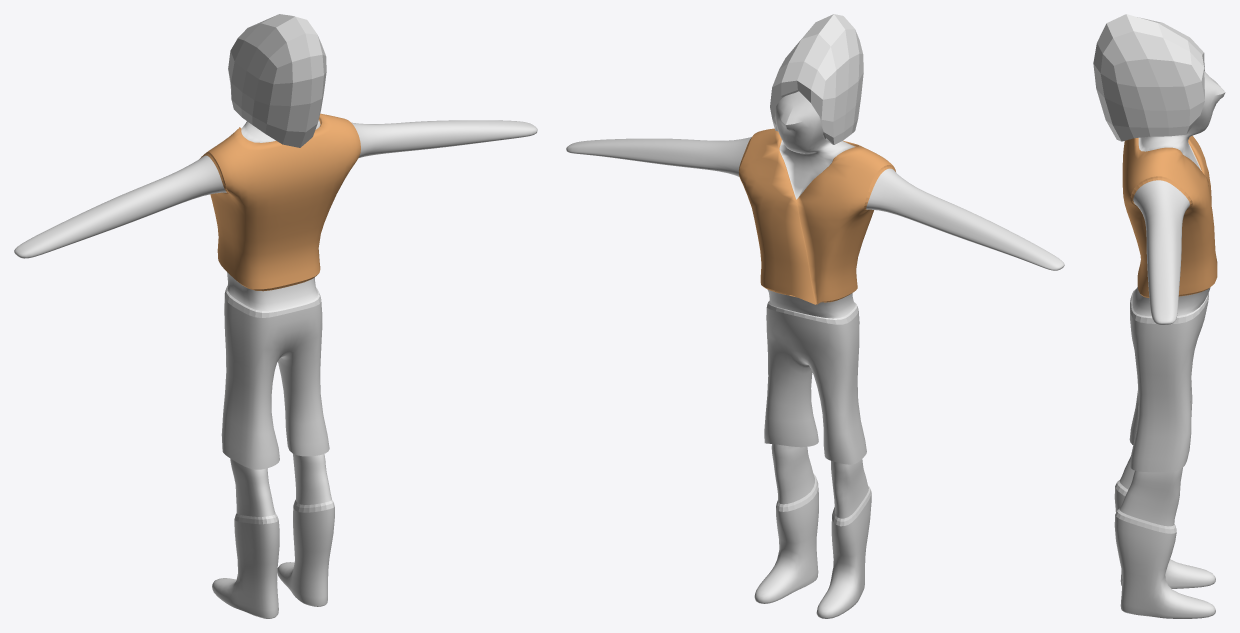
File: Soldier.fbx
The picture shows the model from 3 angles, left to right: view 1: azimuth 30°, elevation 25°; view 2: azimuth 150°, elevation 25°; view 3: azimuth 270°, elevation 25°; orthographic projection. The views are drawn at different scales.
Parts seen in each view (by area): view 1: Soldier; view 2: Soldier; view 3: Soldier.
Part boxes in pixels (x1,y1,x2,y2): Soldier: (14, 14, 537, 618); Soldier: (566, 14, 1064, 618); Soldier: (1093, 14, 1225, 618).
Size of the model in its own units: 174 by 191 by 39.12.
